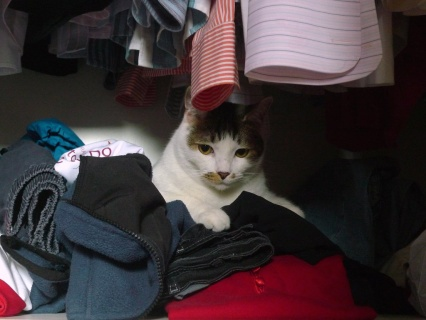Cat: (150, 82, 305, 232)
